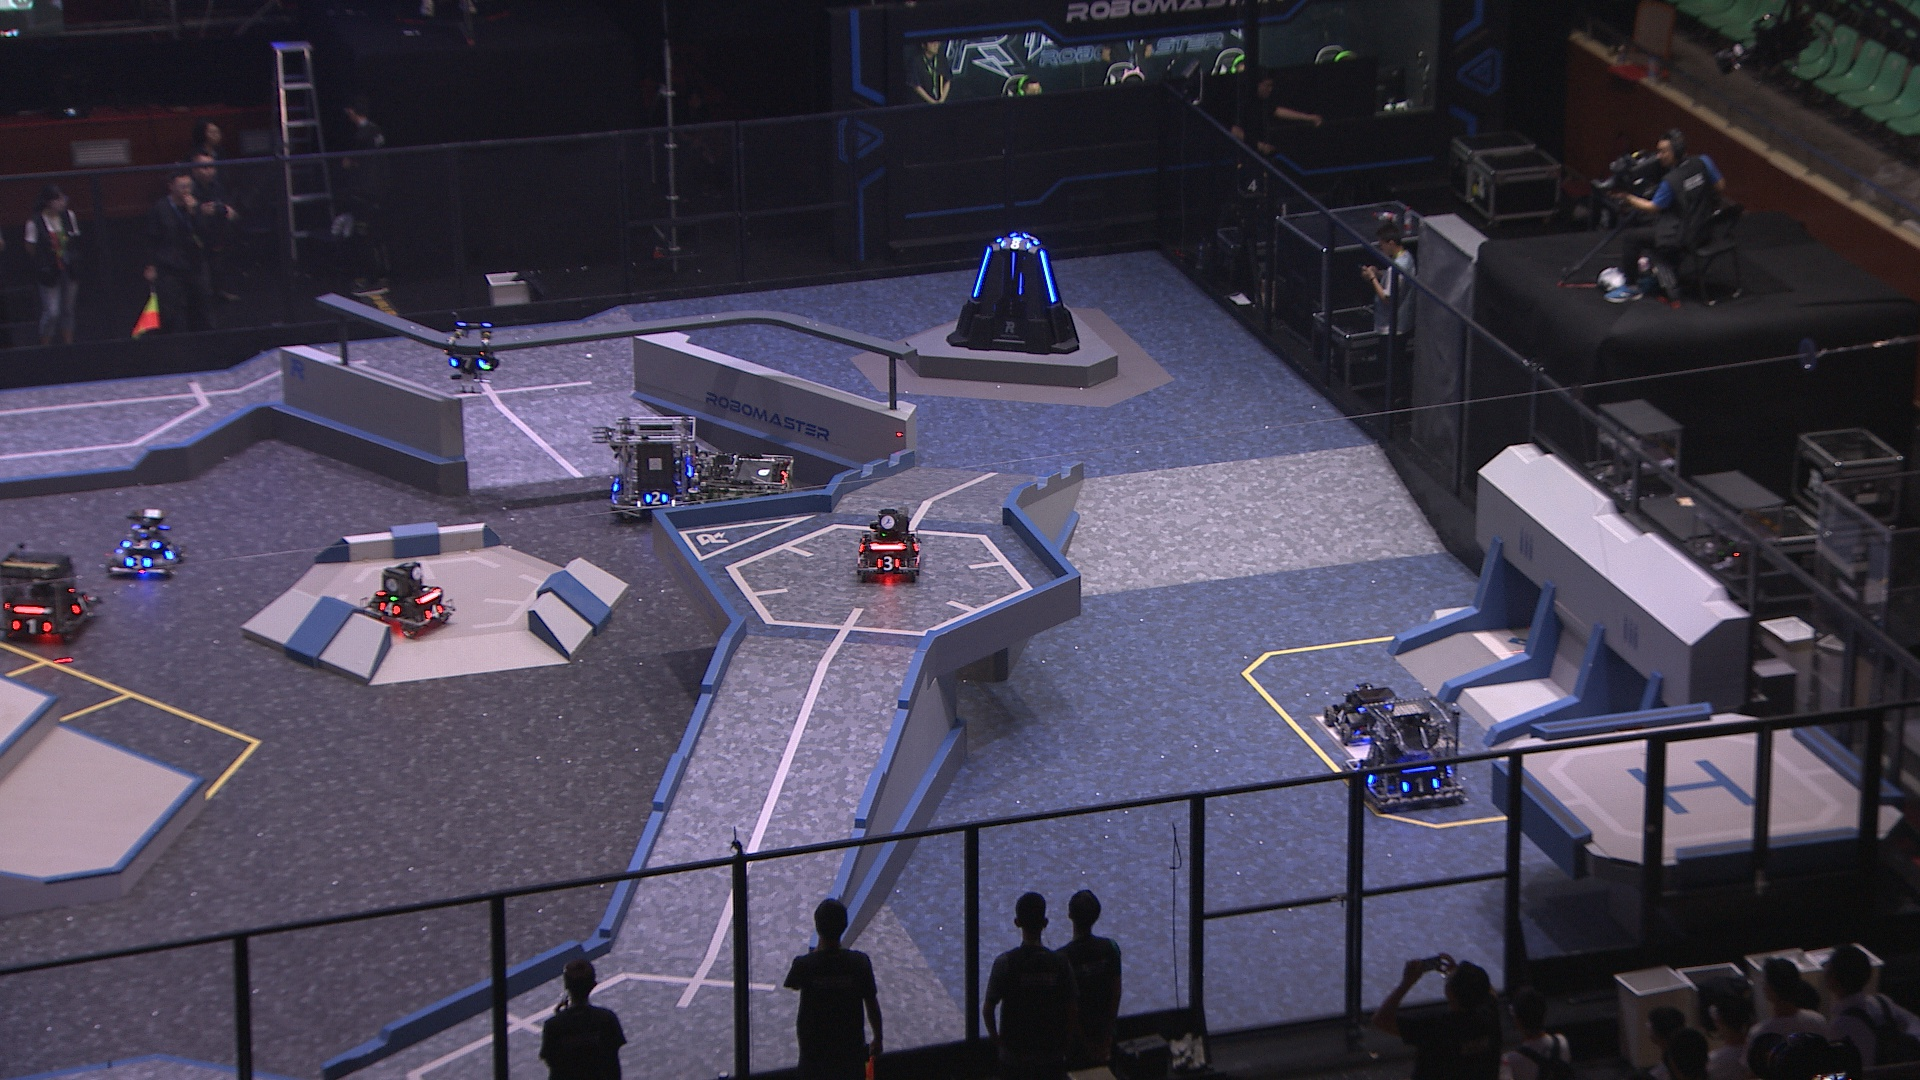armor: (971, 245, 993, 297), (1038, 248, 1058, 305), (1403, 775, 1437, 796), (121, 535, 162, 553), (12, 616, 50, 633), (448, 353, 489, 368), (123, 553, 150, 571), (1001, 233, 1031, 249), (376, 603, 404, 618), (876, 553, 901, 568), (73, 593, 90, 616), (645, 491, 671, 505), (425, 603, 443, 622), (1007, 251, 1021, 276), (1366, 717, 1389, 732), (164, 542, 178, 564), (1335, 707, 1348, 727)
base: (942, 232, 1081, 353)
car: (1346, 694, 1468, 818), (600, 414, 703, 524), (698, 454, 798, 546), (365, 560, 455, 640), (105, 510, 183, 585), (855, 509, 923, 578), (1327, 684, 1400, 746)
watcher: (446, 316, 504, 382)
